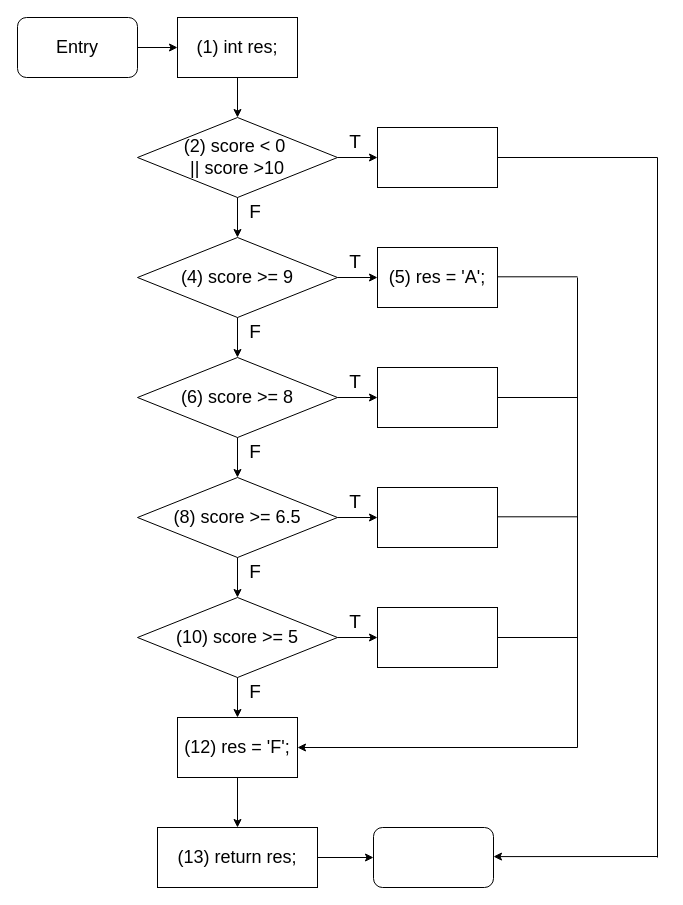
This 683x905 diagram has some shape labels left out. Here are the shapes that lost their labels. From the top down, the box of each, then its label:
(376, 126, 498, 188): (3) return 'I';
(376, 366, 498, 428): (7) res = 'B';
(376, 486, 498, 548): (9) res = 'C';
(376, 606, 498, 668): (11) res = 'D';
(372, 826, 494, 888): Exit
